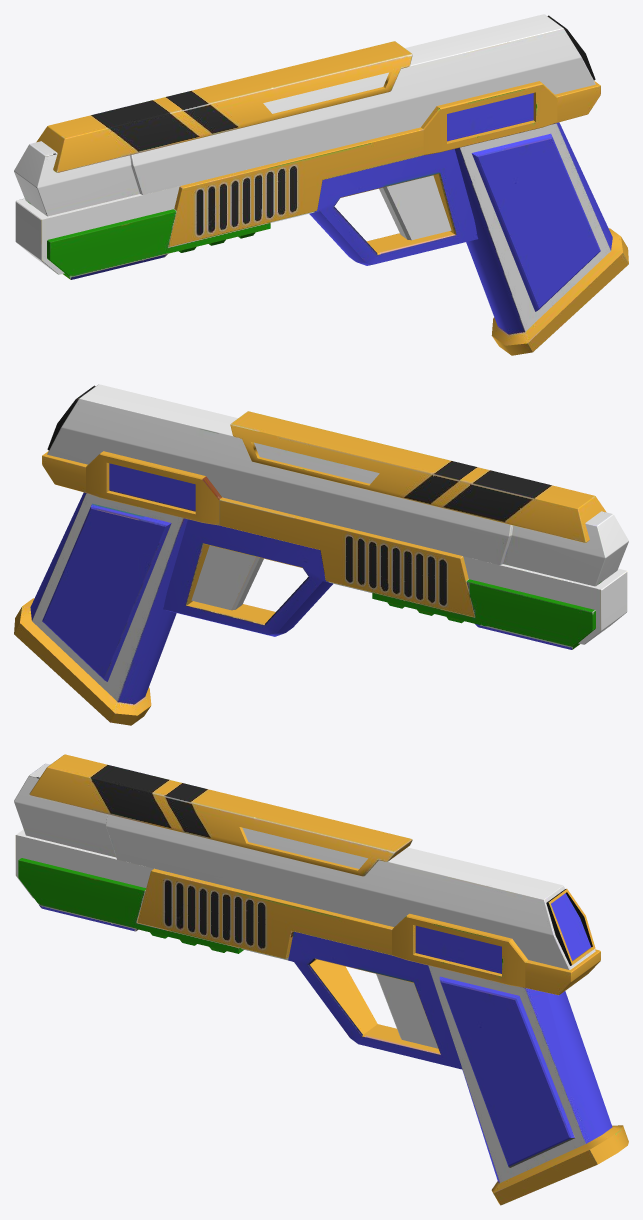
Rendered from Nerf.fbx.
3 renders of one model, top to bottom at view 1: azimuth 30°, elevation 25°; view 2: azimuth 150°, elevation 25°; view 3: azimuth 330°, elevation 25°, orthographic.
Parts seen in each view (by area): view 1: Gun_Base, Gun_Loader, Gun_Tigger; view 2: Gun_Base, Gun_Loader, Gun_Tigger; view 3: Gun_Base, Gun_Loader, Gun_Tigger.
Part boxes in pixels (left/top/right/bottom): Gun_Base: left=15, top=81, right=628, bottom=355; Gun_Loader: left=14, top=14, right=595, bottom=216; Gun_Tigger: left=379, top=175, right=451, bottom=240; Gun_Base: left=14, top=451, right=627, bottom=725; Gun_Loader: left=47, top=384, right=628, bottom=586; Gun_Tigger: left=191, top=545, right=263, bottom=610; Gun_Base: left=15, top=829, right=628, bottom=1205; Gun_Loader: left=14, top=754, right=595, bottom=969; Gun_Tigger: left=376, top=974, right=438, bottom=1048.
Bounding box in the file's own units: 34.25 × 18 × 3.65.
